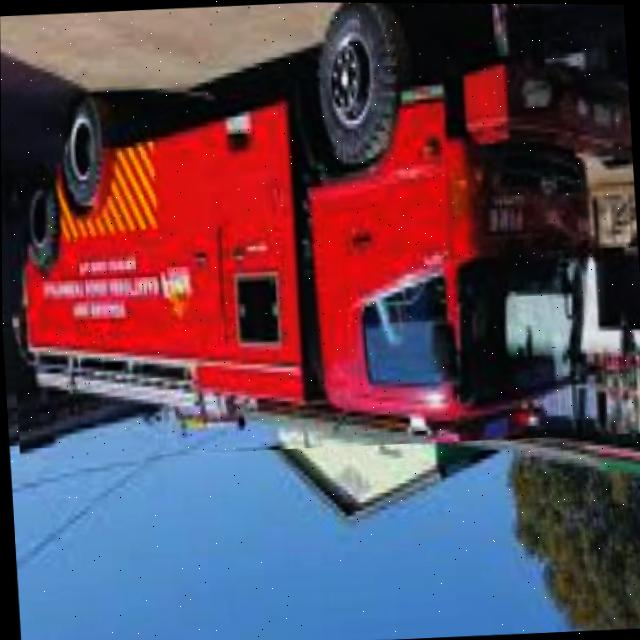Fire Truck: (0, 0, 640, 465)
